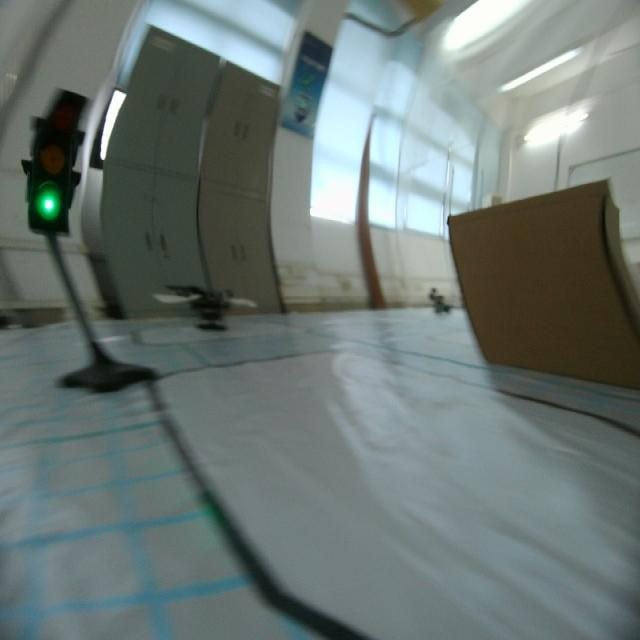green: (18, 81, 88, 238)
